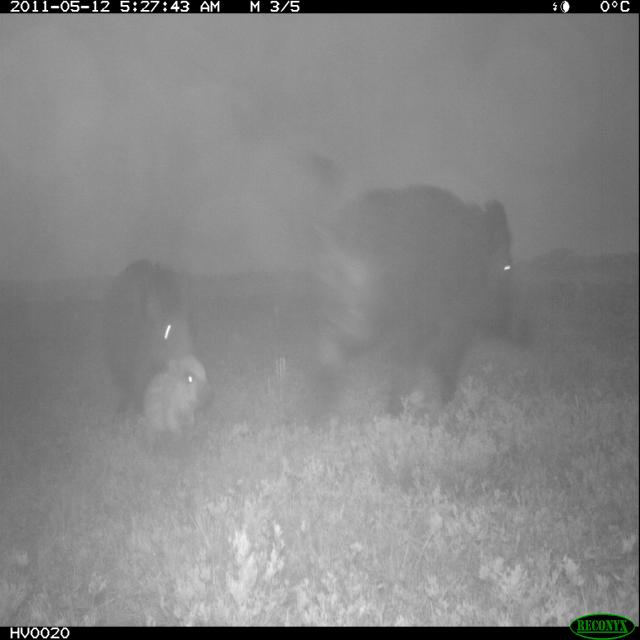boar: (268, 150, 546, 442), (75, 240, 208, 431), (117, 346, 235, 453)
